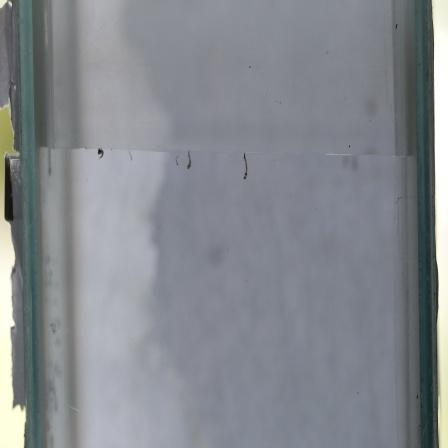Jentik-Nyamuk: (237, 149, 255, 185), (180, 146, 197, 173), (93, 145, 110, 165)
